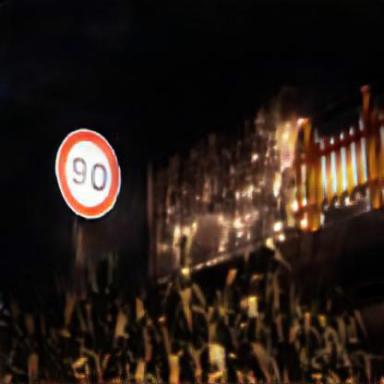Speed_limit_90: (58, 131, 118, 219)
